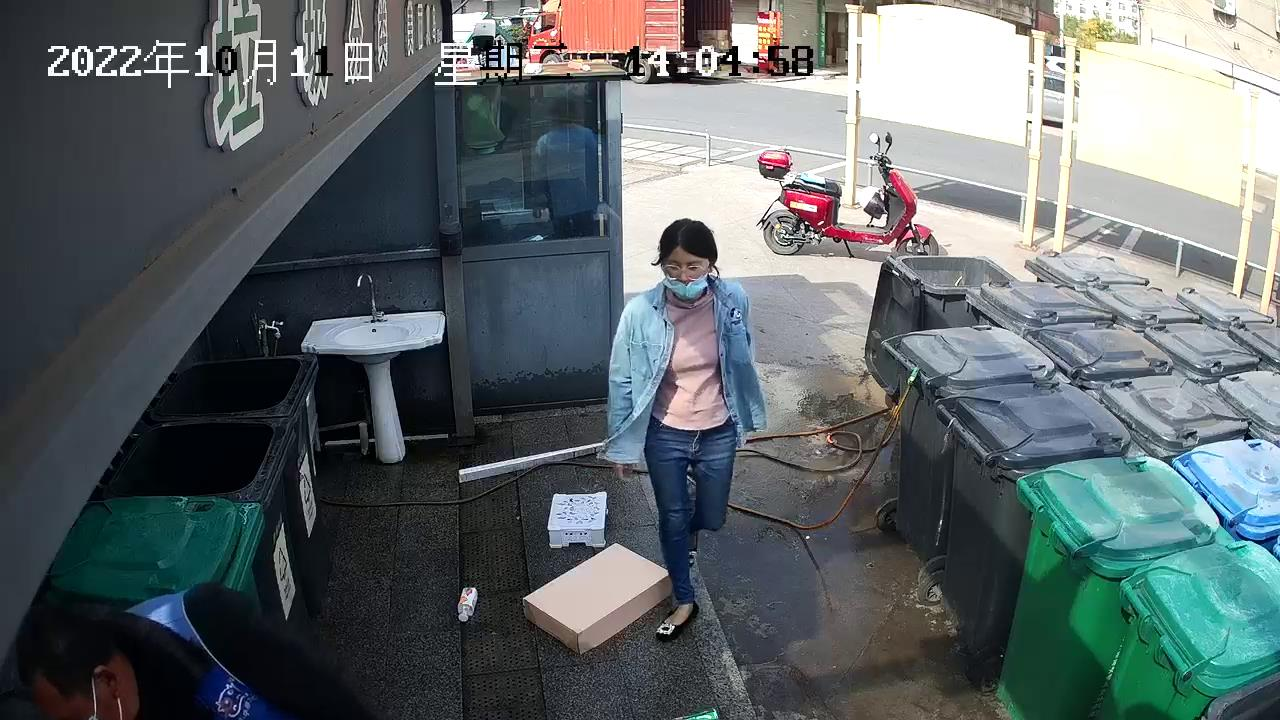suliaozhipin: (544, 488, 610, 548), (455, 582, 479, 623)
worker: (595, 216, 769, 644)
zhizhipin: (519, 541, 675, 656)
